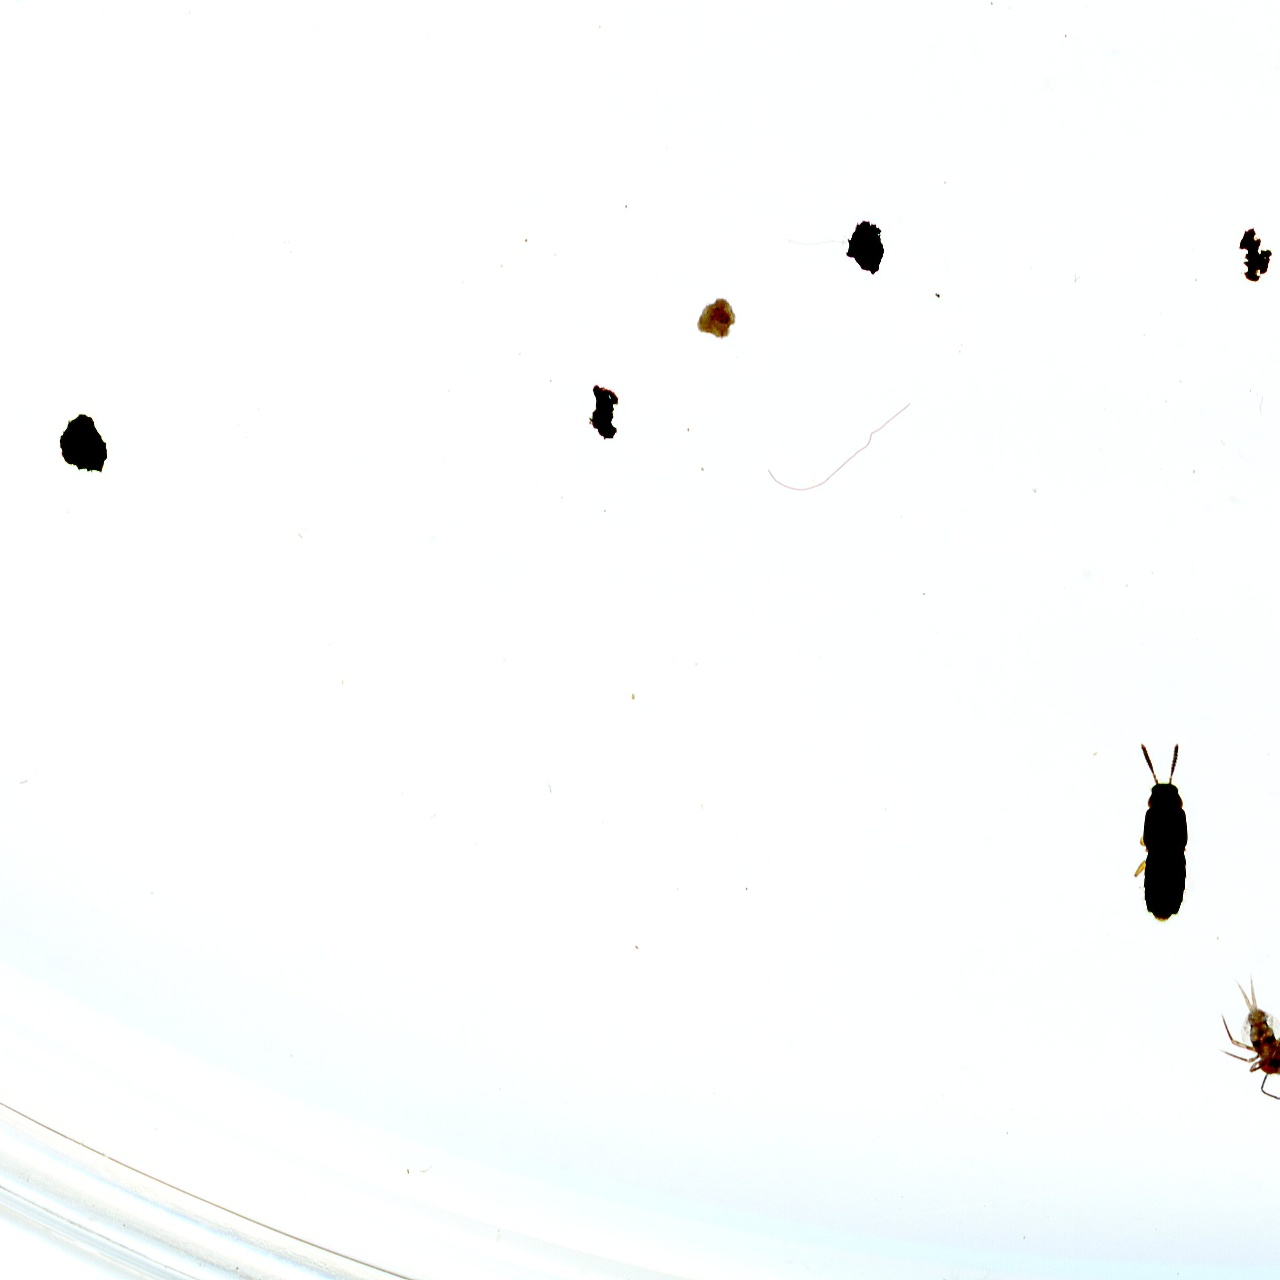arthropod: (1127, 733, 1197, 927), (1195, 959, 1280, 1117)
